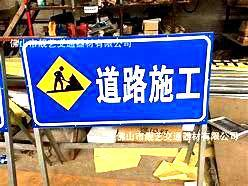sign: (22, 39, 207, 121)
